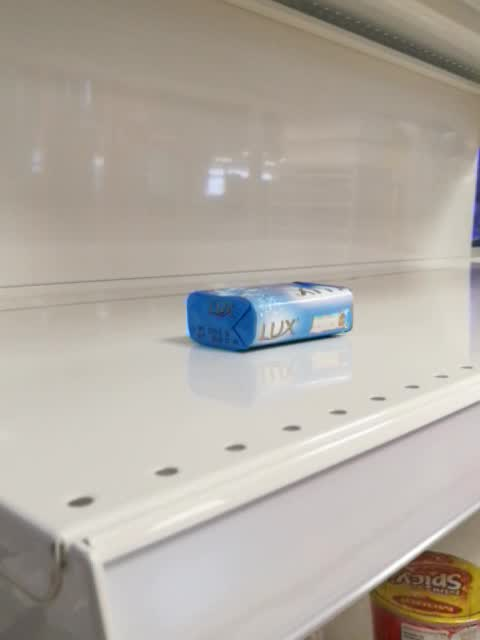soap: (184, 280, 356, 352)
